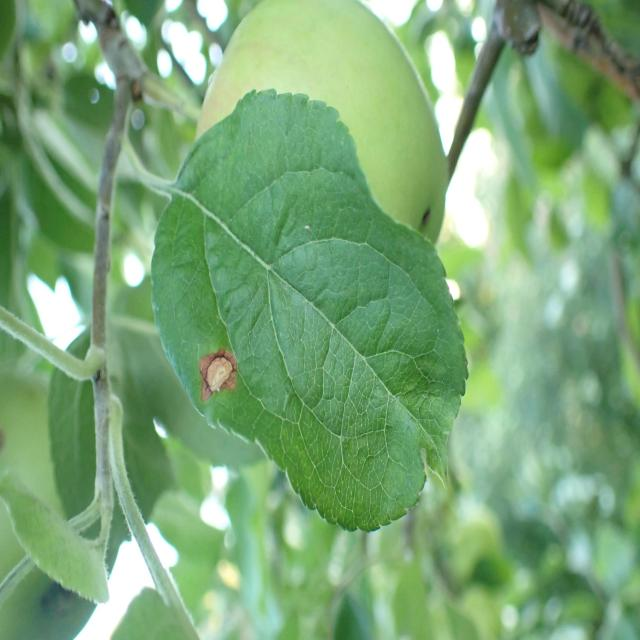Black Rot: (189, 334, 244, 407)
